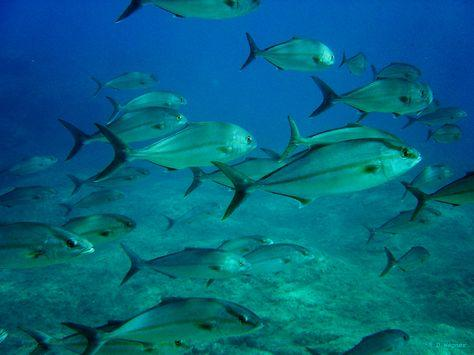fish: (212, 142, 422, 219), (61, 294, 263, 355), (87, 121, 256, 183), (58, 107, 188, 164), (122, 244, 252, 288), (310, 77, 429, 121), (0, 220, 94, 270), (19, 322, 155, 355), (401, 169, 474, 220), (239, 34, 336, 72), (116, 0, 261, 24), (104, 89, 187, 124), (305, 329, 409, 355), (67, 165, 148, 197), (61, 213, 137, 245), (247, 244, 316, 278), (392, 102, 468, 130), (91, 69, 160, 99), (57, 189, 126, 216), (380, 246, 431, 280), (0, 184, 58, 209), (2, 154, 56, 179), (369, 61, 424, 82), (424, 124, 462, 149), (339, 52, 370, 74)
